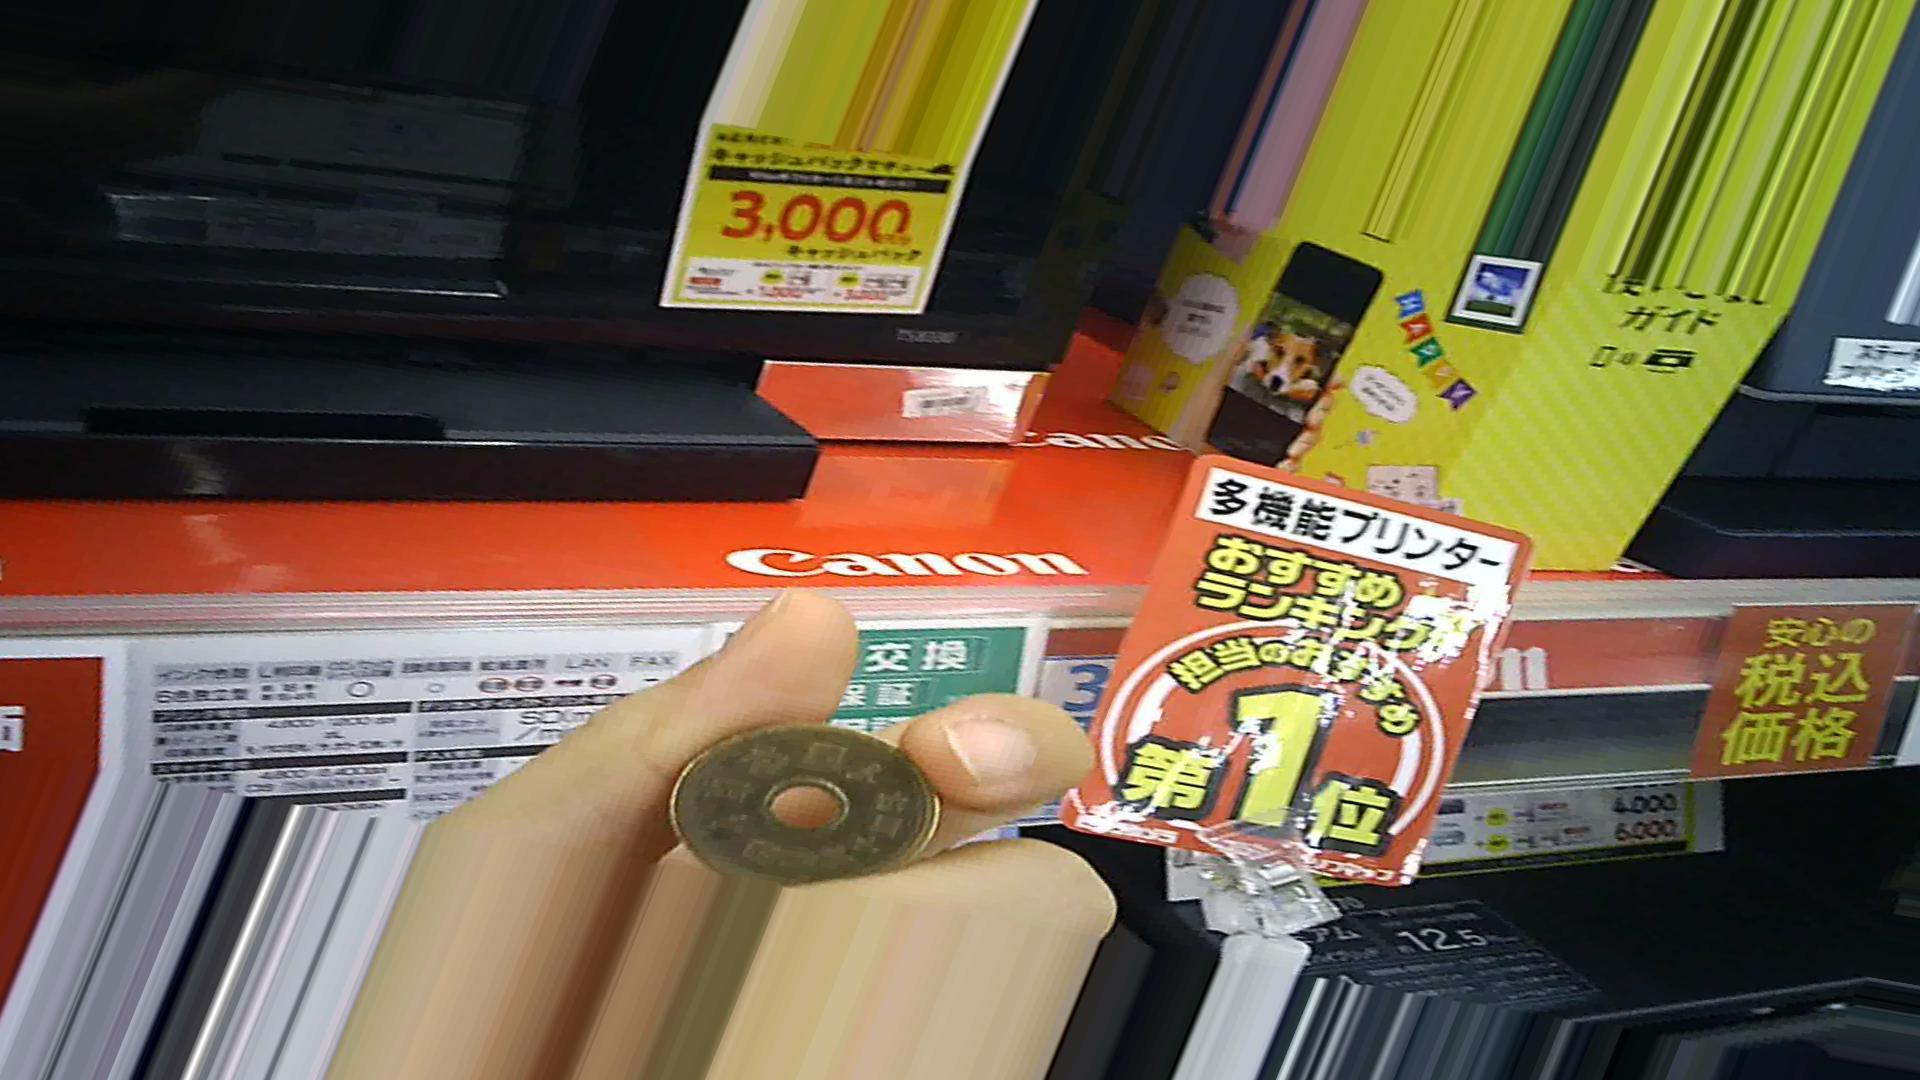5 Yen: (657, 721, 939, 898)
